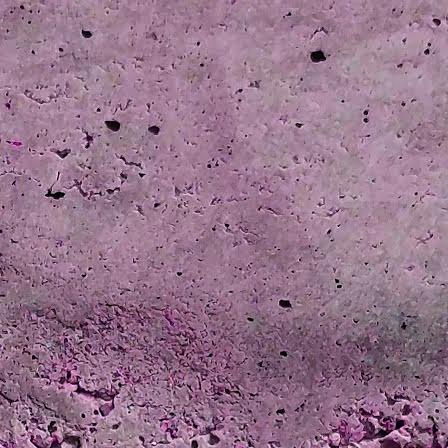spalling: (299, 386, 447, 447), (27, 346, 127, 424), (15, 417, 85, 448)
